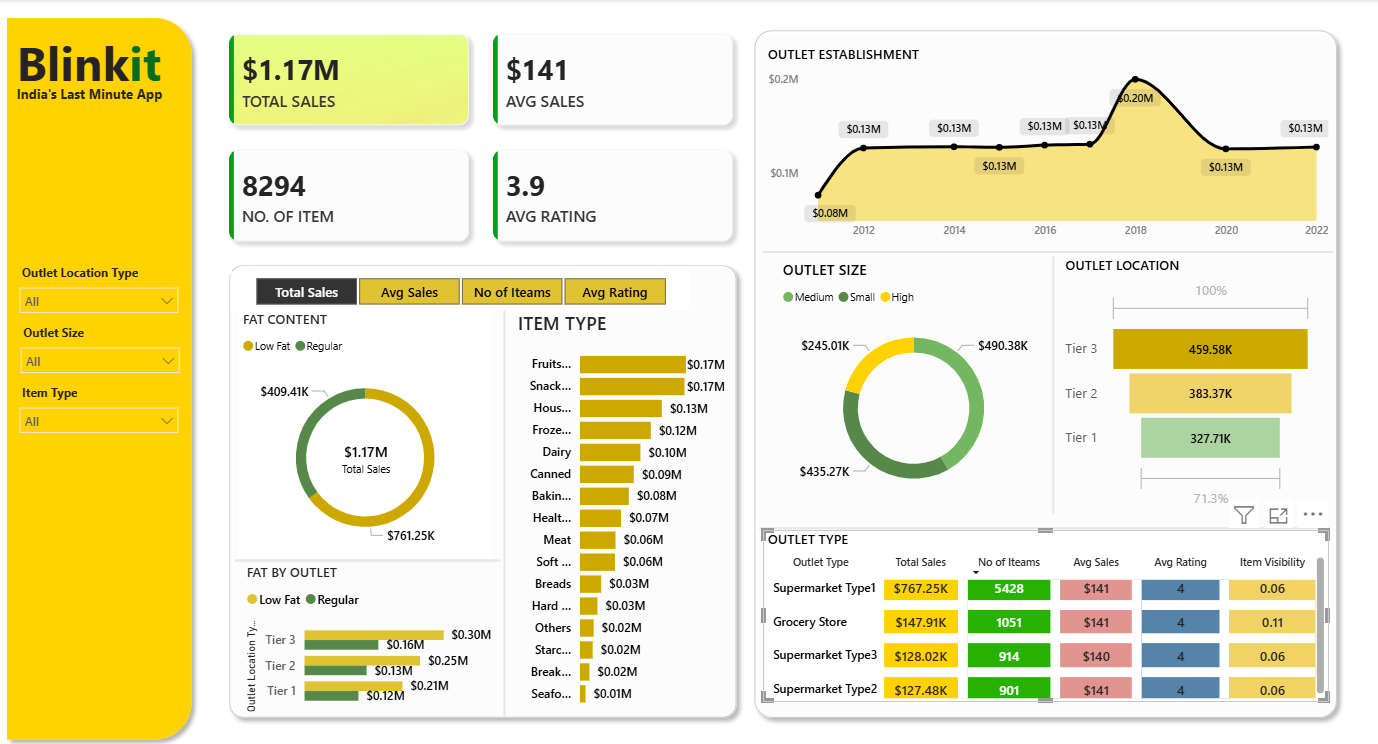

This screenshot's page, from the dashboard's own definition file:
{"tool":"powerbi","page":{"name":"DASHBOARD","canvas":[1400,800],"ordinal":0},"visuals":[{"type":"shape","box":[0,24.1,205.1,749.3],"z":0},{"type":"textbox","box":[13.4,40.2,181,85.8],"z":1000},{"type":"textbox","box":[13.4,96.5,315,59],"z":2000},{"type":"cardVisual","fields":{"Data":["BlinkIT Grocery Data.Total Sales","BlinkIT Grocery Data.Avg Sales","BlinkIT Grocery Data.No of Iteams","BlinkIT Grocery Data.Avg Rating"]},"box":[205.3,19.7,569.7,269.7],"z":3000},{"type":"shape","box":[225,275,531.6,476.3],"z":4000},{"type":"donutChart","title":"FAT CONTENT","fields":{"Y":["BlinkIT Grocery Data.Avg Sales"],"Category":["BlinkIT Grocery Data.Item Fat Content"]},"box":[243.4,328.9,257.9,253.9],"z":5000},{"type":"cardVisual","fields":{"Data":["BlinkIT Grocery Data.Total Sales"]},"box":[317.1,446.1,110.5,67.1],"z":6000},{"type":"slicer","fields":{"Values":["Metrics 2.Metrics"]},"box":[235.5,289.5,464.5,39.5],"z":7000},{"type":"clusteredBarChart","title":"FAT BY OUTLET","fields":{"Y":["BlinkIT Grocery Data.Avg Sales"],"Category":["BlinkIT Grocery Data.Outlet Location Type"],"Series":["BlinkIT Grocery Data.Item Fat Content"]},"box":[247.4,584.2,257.9,156.6],"z":8000},{"type":"shape","box":[243.4,571.1,265.8,23.7],"z":9000},{"type":"shape","box":[239.5,571.1,265.8,23.7],"z":10000},{"type":"shape","box":[505.3,328.9,15.8,411.8],"z":11000},{"type":"barChart","title":"ITEM TYPE","fields":{"Y":["BlinkIT Grocery Data.Avg Sales"],"Category":["BlinkIT Grocery Data.Item Type"]},"box":[521.1,328.9,219.7,411.8],"z":12000},{"type":"shape","box":[756.6,36.8,607.9,714.5],"z":13000},{"type":"lineChart","title":"OUTLET ESTABLISHMENT","fields":{"Category":["BlinkIT Grocery Data.Outlet Establishment Year"],"Y":["BlinkIT Grocery Data.Total Sales"]},"box":[775,60.5,577.6,205.3],"z":14000},{"type":"shape","box":[775,265.8,577.6,9.2],"z":15000},{"type":"donutChart","title":"OUTLET SIZE","fields":{"Y":["BlinkIT Grocery Data.Total Sales"],"Category":["BlinkIT Grocery Data.Outlet Size"]},"box":[789.5,277.6,275,255.3],"z":16000},{"type":"shape","box":[1060.5,275,15.8,260.5],"z":17000},{"type":"funnel","title":"OUTLET LOCATION","fields":{"Category":["BlinkIT Grocery Data.Outlet Location Type"],"Y":["Sum(BlinkIT Grocery Data.Sales)"]},"box":[1076.3,275,260.5,260.5],"z":18000},{"type":"shape","box":[771.1,546.1,577.6,9.2],"z":19000},{"type":"pivotTable","title":"OUTLET TYPE","fields":{"Rows":["BlinkIT Grocery Data.Outlet Type"],"Values":["BlinkIT Grocery Data.Total Sales","BlinkIT Grocery Data.No of Iteams","BlinkIT Grocery Data.Avg Sales","BlinkIT Grocery Data.Avg Rating","Avg(BlinkIT Grocery Data.Item Visibility)"]},"box":[775,551.3,573.7,175],"z":20000},{"type":"slicer","fields":{"Values":["BlinkIT Grocery Data.Outlet Location Type"]},"box":[11.8,278.9,181.6,60.5],"z":21000},{"type":"slicer","fields":{"Values":["BlinkIT Grocery Data.Outlet Size"]},"box":[13.2,339.5,181.6,60.5],"z":22000},{"type":"slicer","fields":{"Values":["BlinkIT Grocery Data.Item Type"]},"box":[11.8,400,181.6,60.5],"z":23000}]}

Visuals, with their boxes on the page's 1400x800 design canvas (x1, y1, x2, y2). These are canvas units, not pixel positions in the 1378x744 screenshot, which may show the page scaled, cropped or inside an application window:
shape: bbox(0, 24, 205, 773)
textbox: bbox(13, 40, 194, 126)
textbox: bbox(13, 96, 328, 156)
cardVisual - BlinkIT Grocery Data.Total Sales x BlinkIT Grocery Data.Avg Sales: bbox(205, 20, 775, 289)
shape: bbox(225, 275, 757, 751)
"FAT CONTENT" donutChart: bbox(243, 329, 501, 583)
cardVisual - BlinkIT Grocery Data.Total Sales: bbox(317, 446, 428, 513)
slicer - Metrics 2.Metrics: bbox(236, 290, 700, 329)
"FAT BY OUTLET" clusteredBarChart: bbox(247, 584, 505, 741)
shape: bbox(243, 571, 509, 595)
shape: bbox(240, 571, 505, 595)
shape: bbox(505, 329, 521, 741)
"ITEM TYPE" barChart: bbox(521, 329, 741, 741)
shape: bbox(757, 37, 1364, 751)
"OUTLET ESTABLISHMENT" lineChart: bbox(775, 60, 1353, 266)
shape: bbox(775, 266, 1353, 275)
"OUTLET SIZE" donutChart: bbox(790, 278, 1064, 533)
shape: bbox(1060, 275, 1076, 536)
"OUTLET LOCATION" funnel: bbox(1076, 275, 1337, 536)
shape: bbox(771, 546, 1349, 555)
"OUTLET TYPE" pivotTable: bbox(775, 551, 1349, 726)
slicer - BlinkIT Grocery Data.Outlet Location Type: bbox(12, 279, 193, 339)
slicer - BlinkIT Grocery Data.Outlet Size: bbox(13, 340, 195, 400)
slicer - BlinkIT Grocery Data.Item Type: bbox(12, 400, 193, 460)
